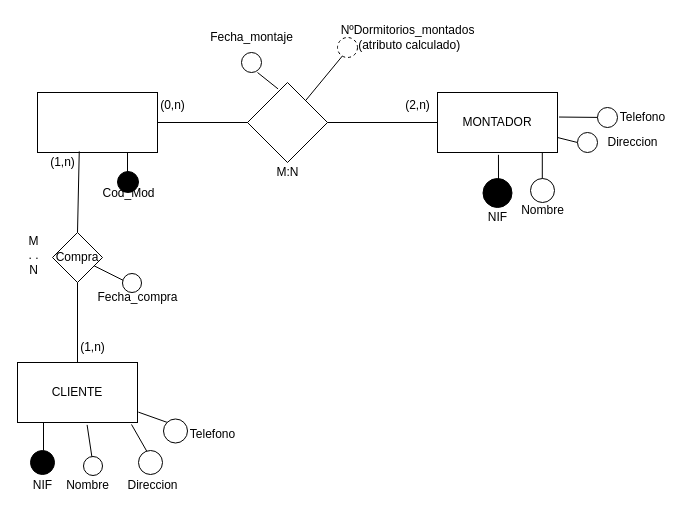
Some shapes in this 695 by 517 pixel diagram are drawn without their labels. The shapes that lost their labels are listed below. From the top down, each one's centre as x and y in pixels, then its label:
At [97,122]: "MODELO DORMITORIO".
At [287,122]: "Montaje".
